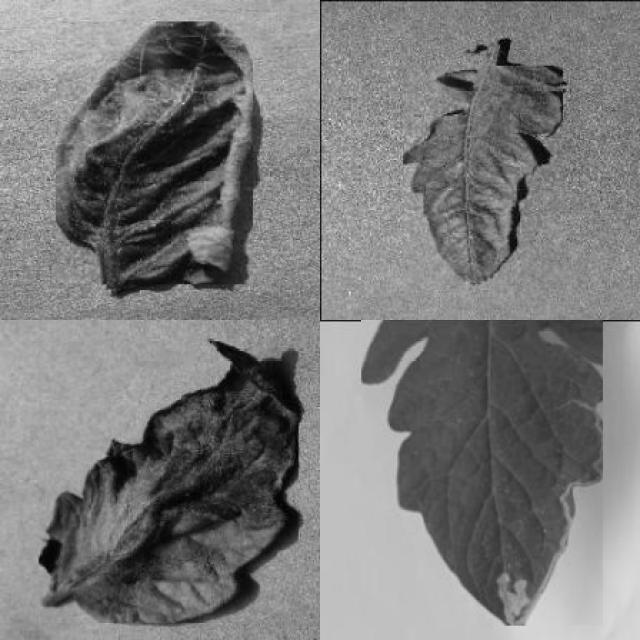Late Blight: (39, 338, 298, 623)
Leaf Miner: (360, 320, 603, 626)
Mosaic Virus: (404, 66, 564, 286)
Yellow Leaf Curl Virus: (56, 22, 254, 284)
